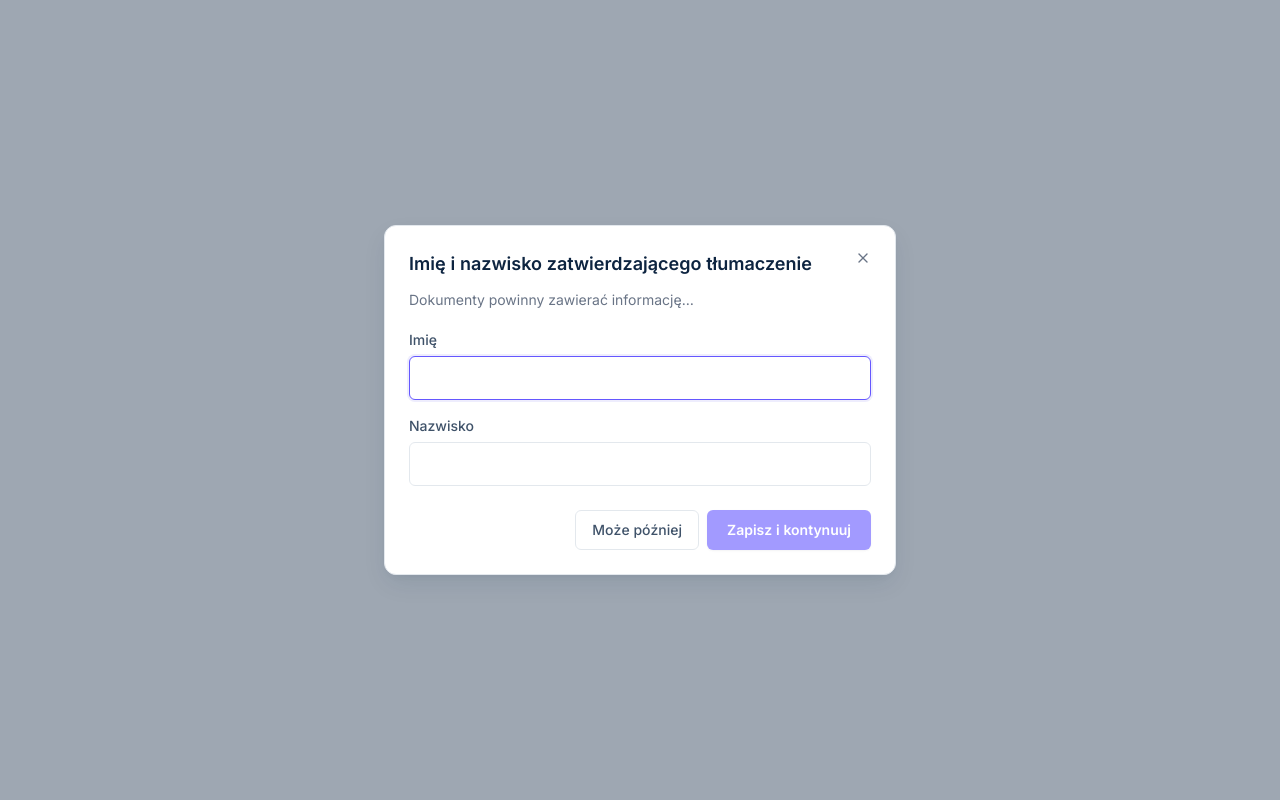
Test: <NameCaptureModal> › disables Save until both name fields are filled
Check: the button "Zapisz i kontynuuj" is disabled, box top-left (707, 510), bottom-right (871, 550)
Type "Jan" into the field labelled "Imię" at (640, 378), box top-left (409, 356), bottom-right (871, 400)
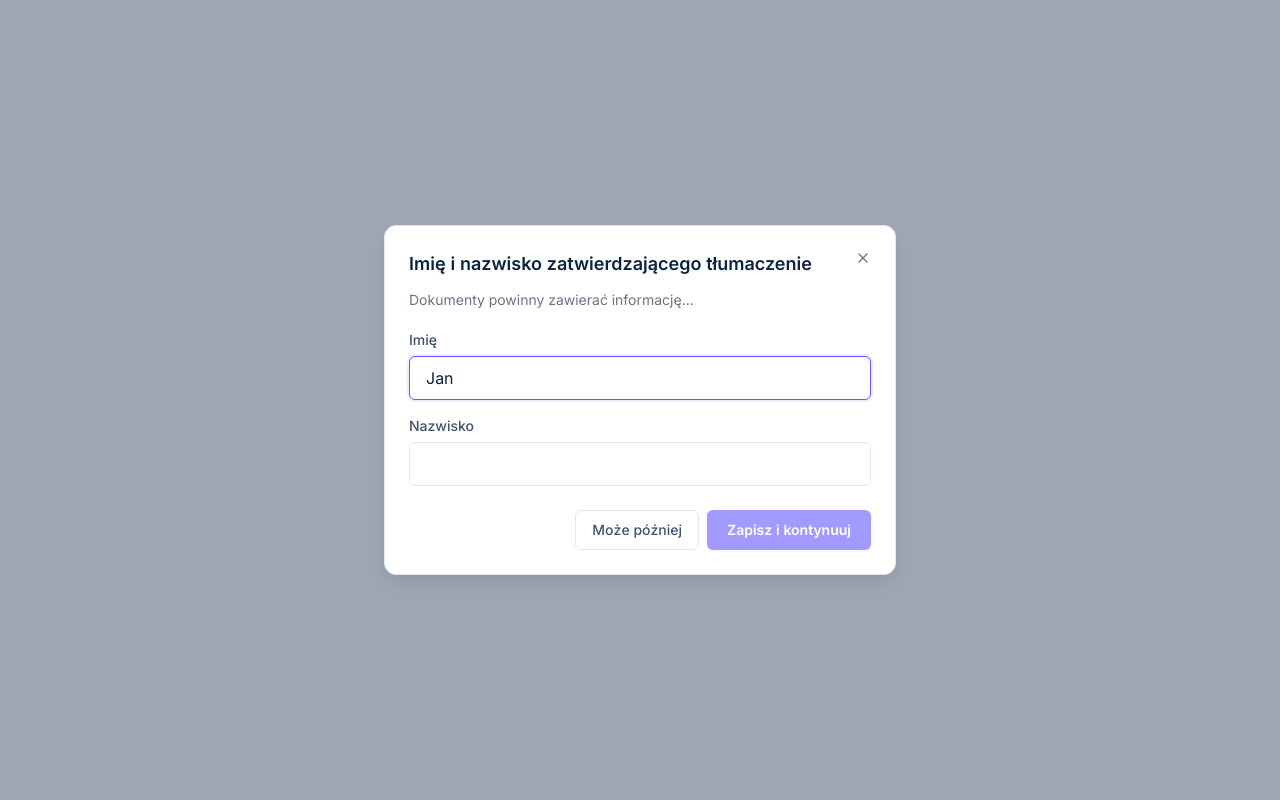
Check: the button "Zapisz i kontynuuj" is disabled, box top-left (707, 510), bottom-right (871, 550)
Type "Kowalski" into the field labelled "Nazwisko" at (640, 464), box top-left (409, 442), bottom-right (871, 486)
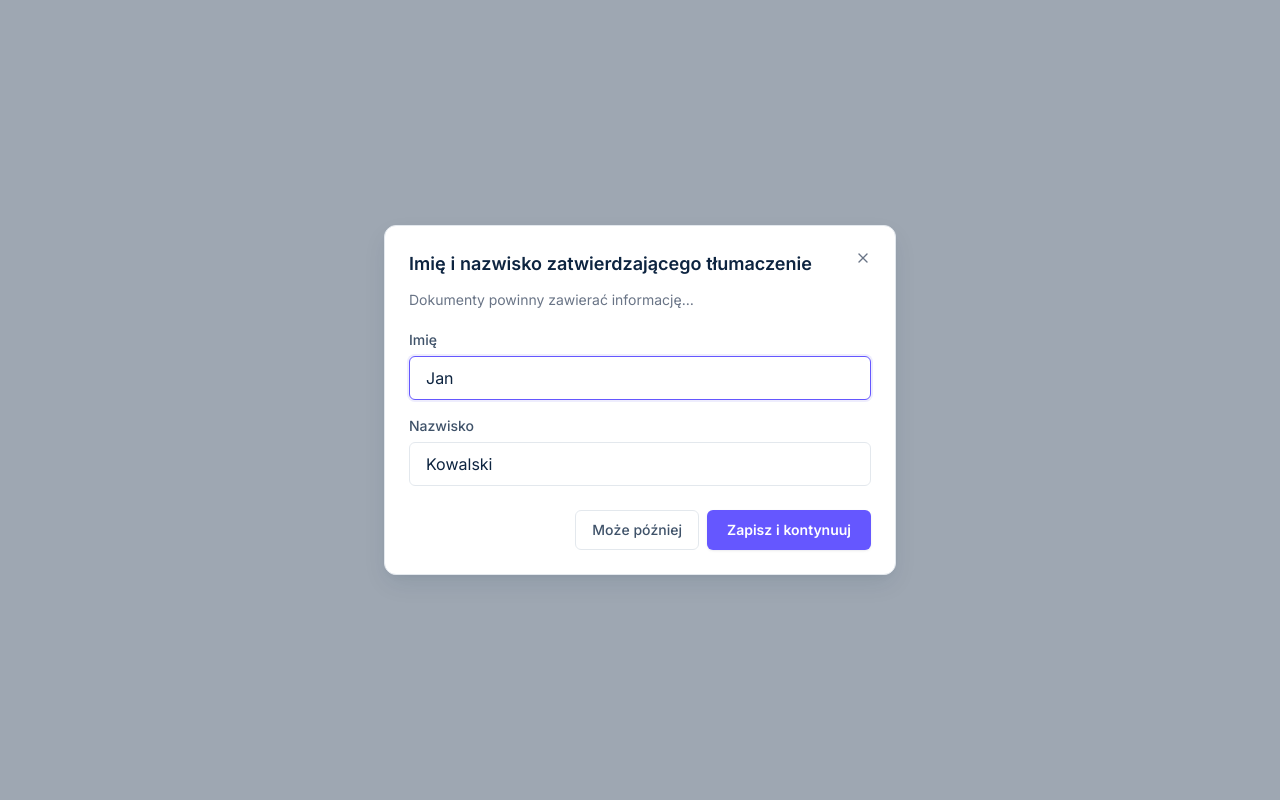
Check: the button "Zapisz i kontynuuj" is enabled, box top-left (707, 510), bottom-right (871, 550)
